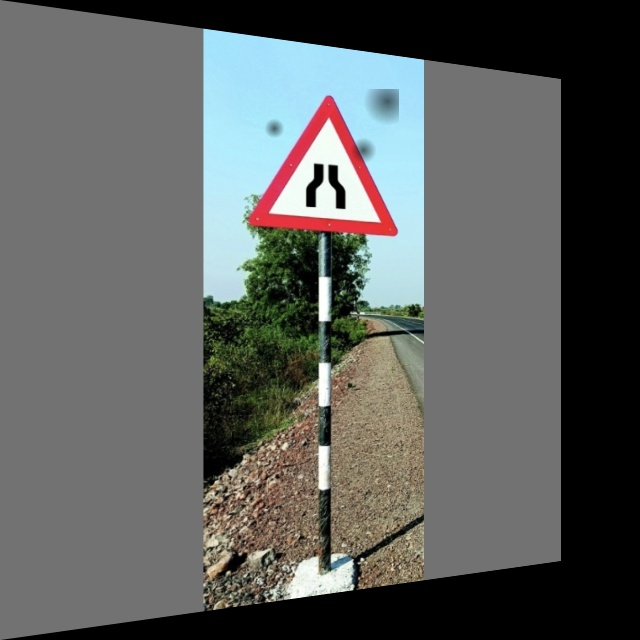Narrow_Road_Ahead: (252, 89, 399, 238)
